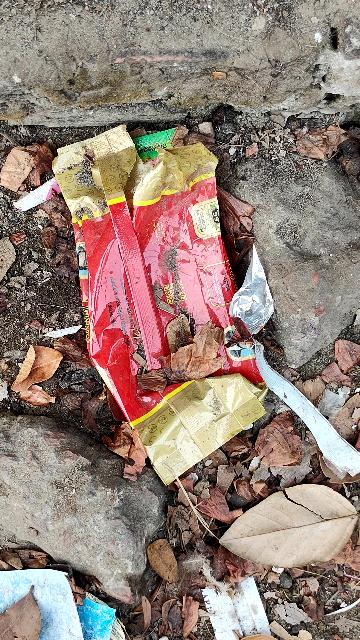packet: (54, 119, 281, 483)
